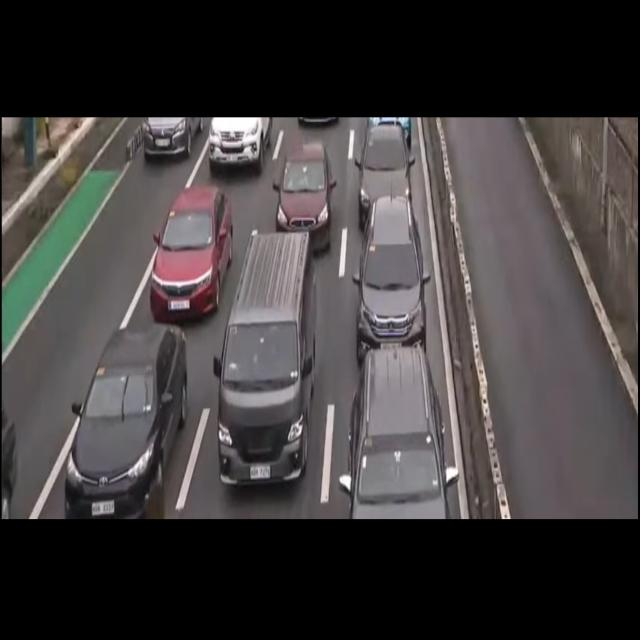SUV: (346, 351, 445, 511), (358, 197, 431, 357), (207, 112, 271, 170)
Sedan: (67, 326, 186, 507), (158, 184, 230, 324), (355, 125, 417, 222), (279, 144, 330, 243)
Van: (217, 232, 318, 490)
